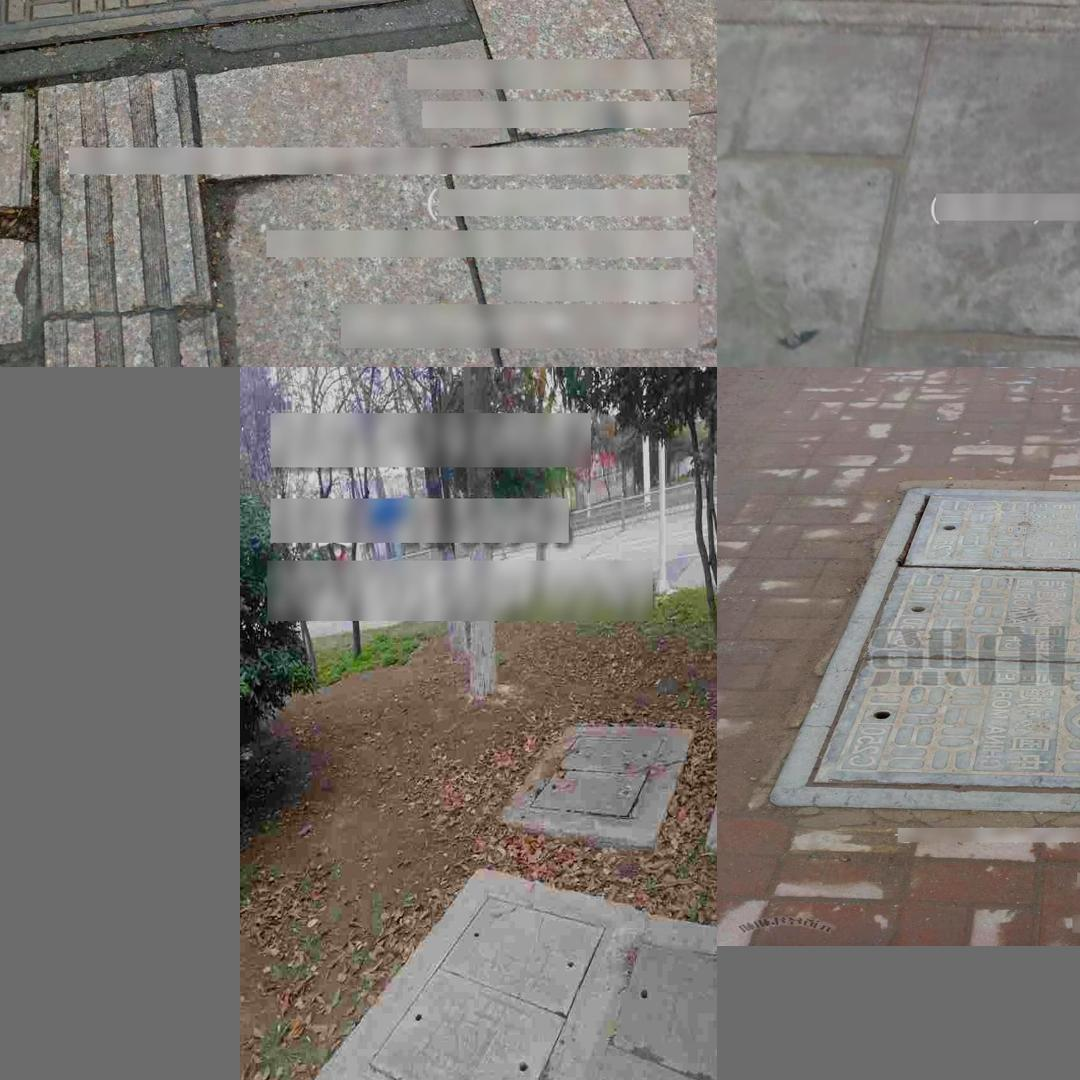good: (765, 486, 1080, 818), (360, 889, 612, 1080), (0, 0, 471, 96), (544, 933, 717, 1080), (524, 730, 668, 826)
